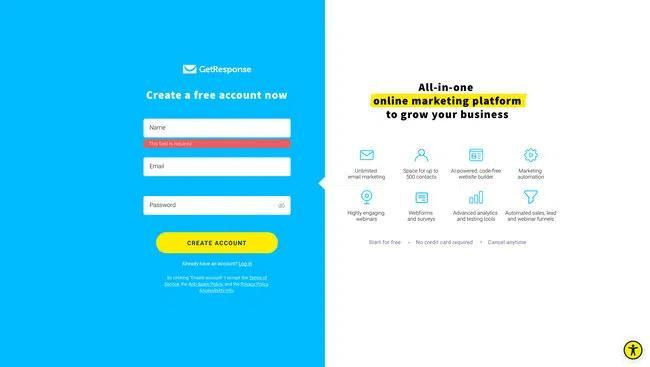button: (157, 232, 280, 256)
icon: (467, 191, 486, 206), (524, 189, 540, 205), (414, 149, 431, 164), (469, 148, 485, 163), (525, 148, 540, 164), (360, 190, 375, 206), (360, 149, 376, 162), (415, 192, 429, 205), (183, 65, 198, 76)
input: (144, 196, 292, 216), (144, 119, 293, 138), (145, 158, 292, 177)
